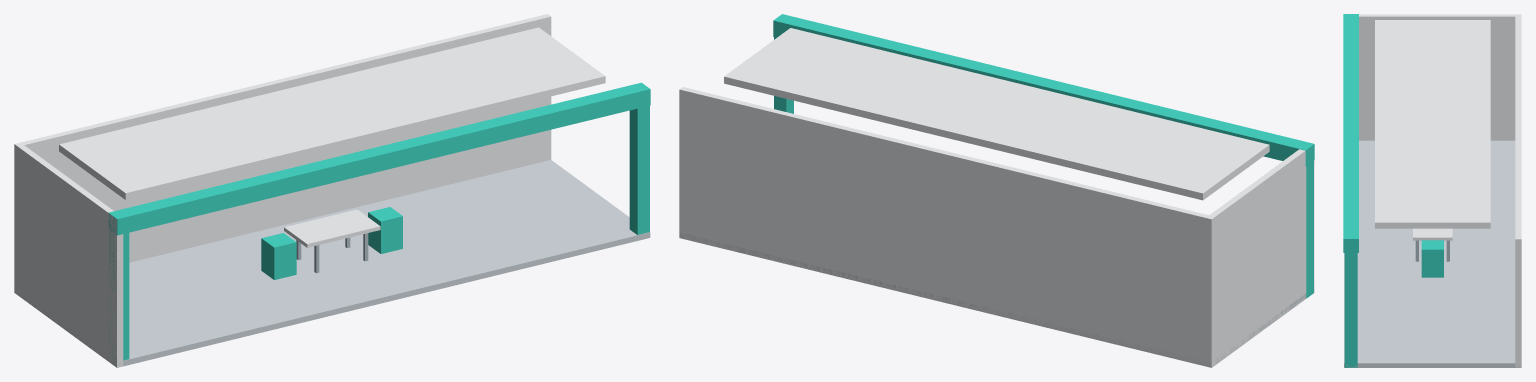
The picture shows the model from 3 angles, left to right: view 1: azimuth 30°, elevation 25°; view 2: azimuth 150°, elevation 25°; view 3: azimuth 270°, elevation 25°; orthographic projection. The views are drawn at different scales.
Visible parts, largest first — view 1: Exhibition Booth Concept; view 2: Exhibition Booth Concept; view 3: Exhibition Booth Concept.
Part boxes in pixels (left/top/right/bottom): Exhibition Booth Concept: left=14, top=14, right=650, bottom=367; Exhibition Booth Concept: left=679, top=14, right=1314, bottom=367; Exhibition Booth Concept: left=1343, top=14, right=1521, bottom=367.
Bounding box in the file's own units: 12 × 3.34 × 4.02.
